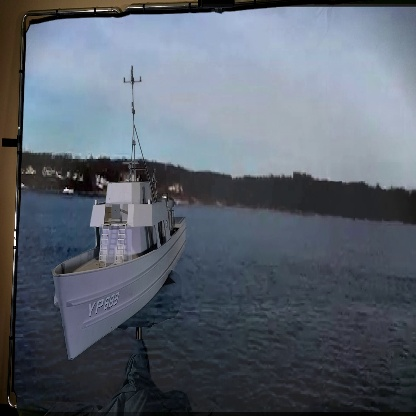YP689: (54, 63, 186, 363)
